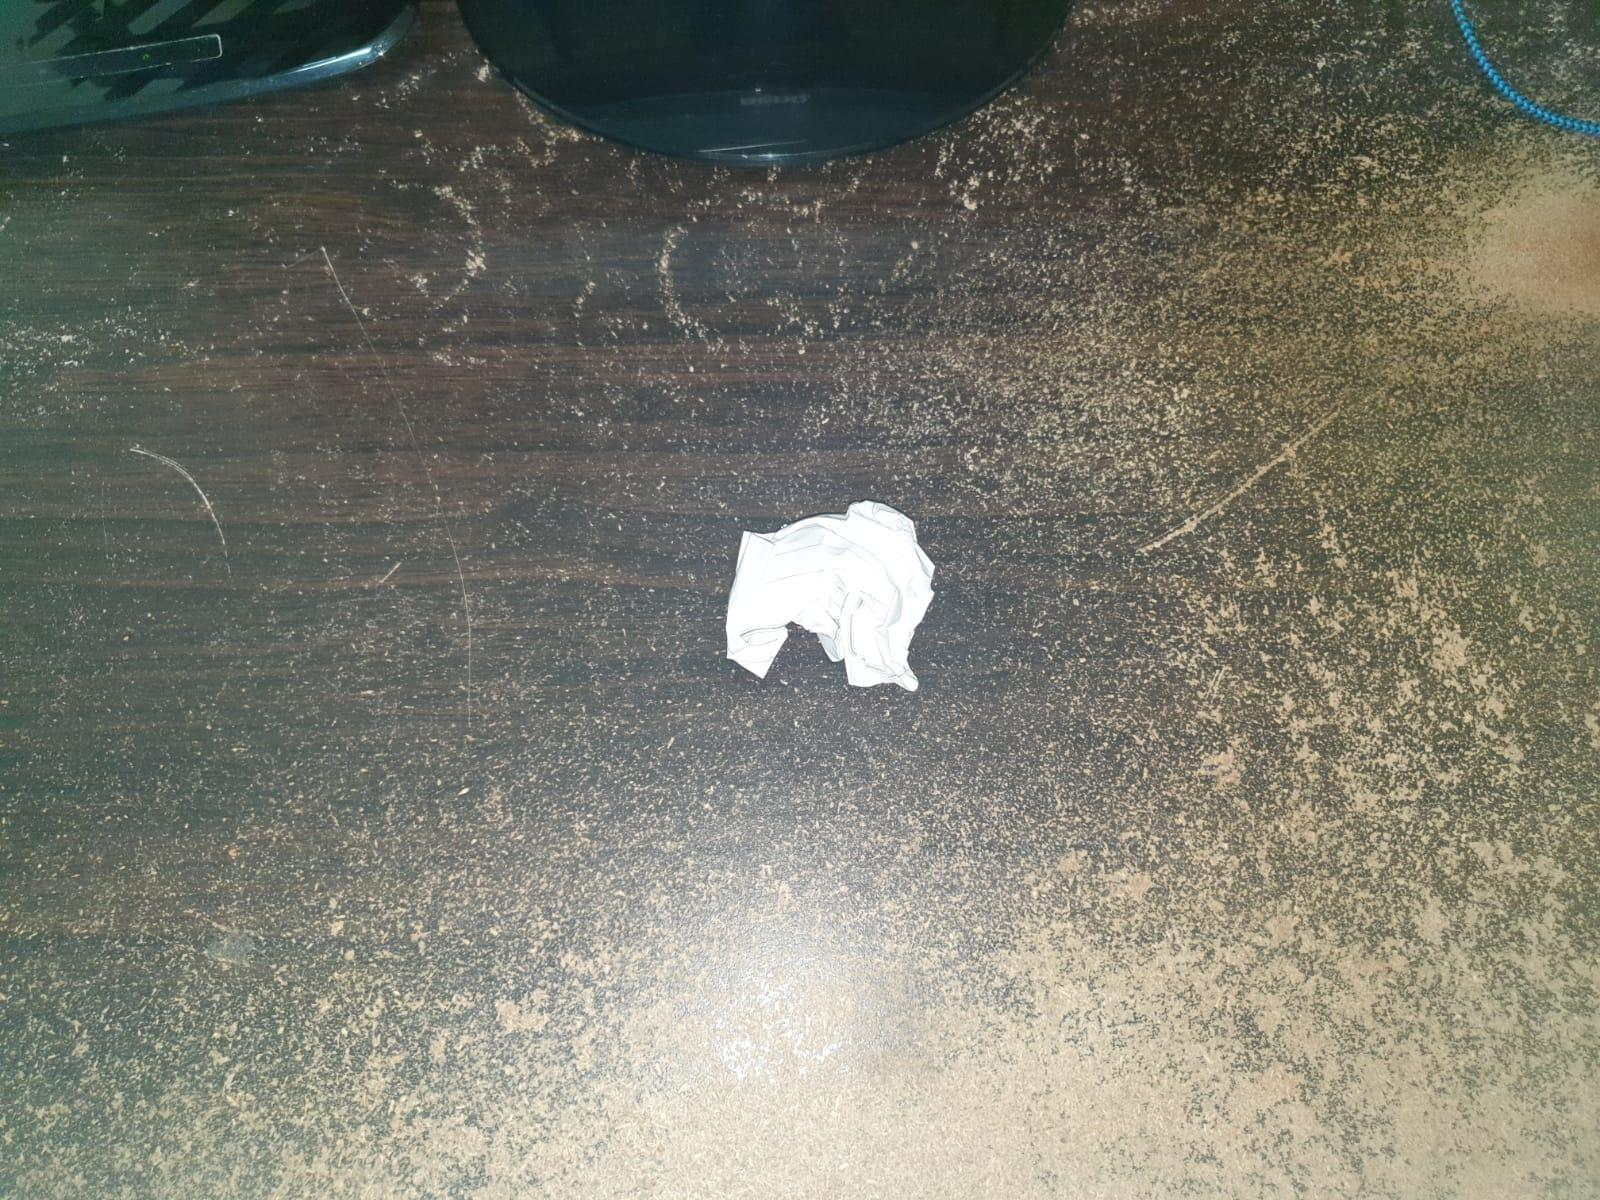Paper: (716, 501, 943, 696)
